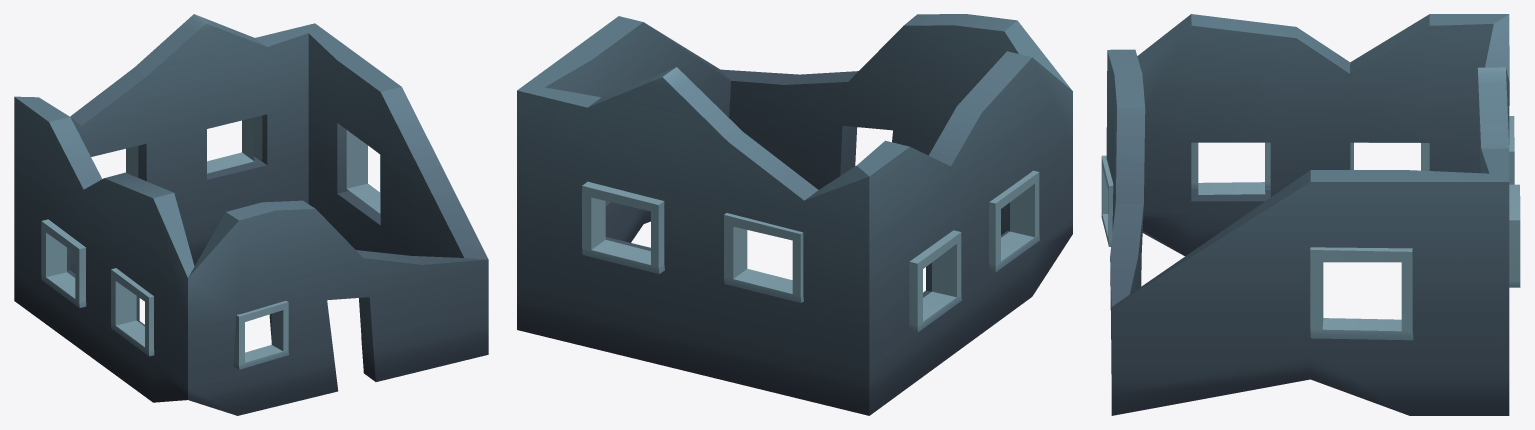
The model's file is Building_T018.fbx.
The picture shows the model from 3 angles, left to right: view 1: azimuth 30°, elevation 25°; view 2: azimuth 150°, elevation 25°; view 3: azimuth 270°, elevation 25°; orthographic projection. The views are drawn at different scales.
Parts seen in each view (by area): view 1: Building_T018; view 2: Building_T018; view 3: Building_T018.
Boxes of the visible parts, x1,y1,x2,y2 form: Building_T018: (14,14,488,415); Building_T018: (517,14,1072,415); Building_T018: (1101,14,1520,415).
Size of the model in its own units: 20.55 by 15.31 by 20.72.
